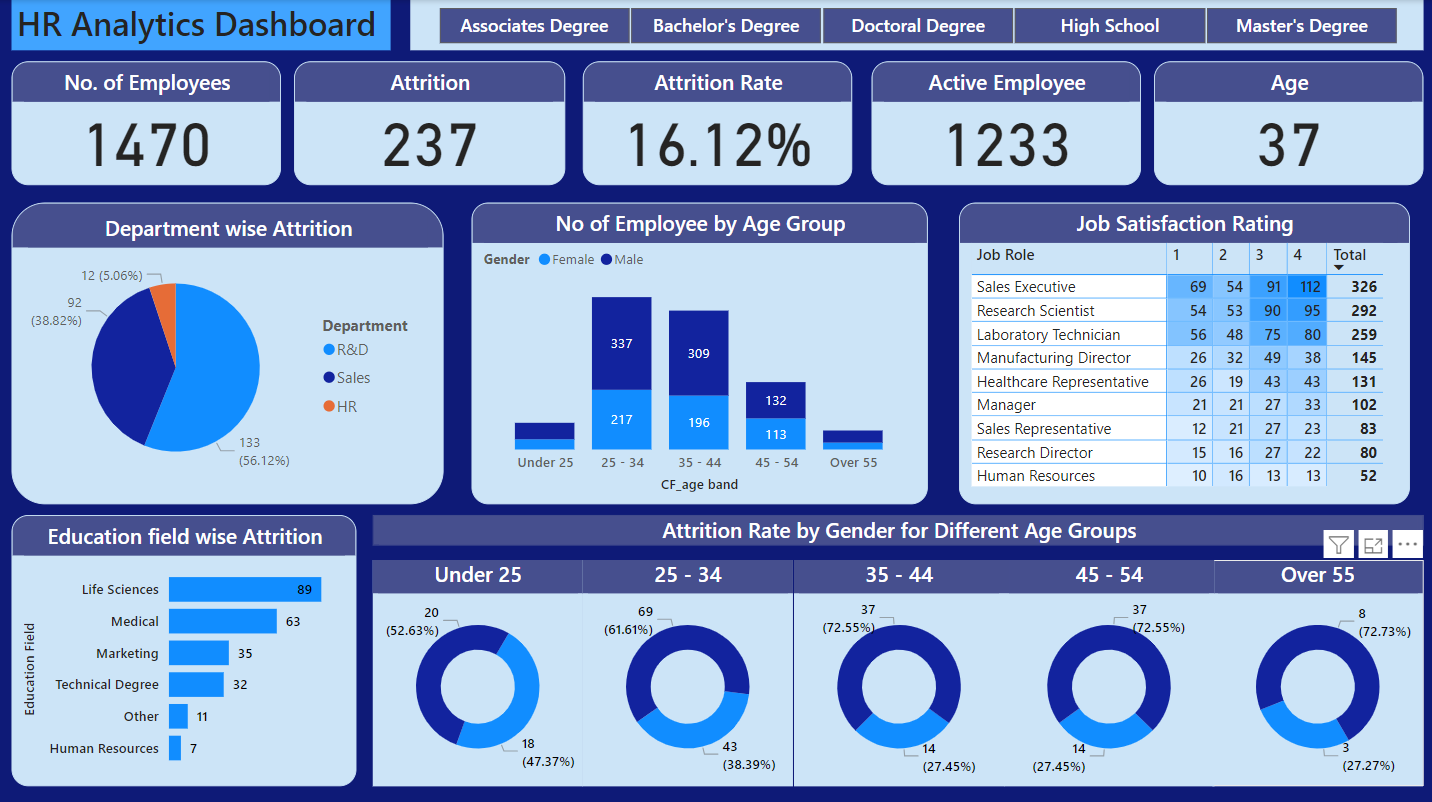

Layout of this report page (visuals, bound fields, positions):
{"tool":"powerbi","page":{"name":"Page 1","canvas":[1280,720],"ordinal":0},"visuals":[{"type":"card","title":"No. of Employees","fields":{"Values":["Sum(HR data.Employee Count)"]},"box":[11.2,55,240,110],"z":0},{"type":"card","title":"Attrition","fields":{"Values":["Sum(HR data.Attrition count)"]},"box":[262.5,55,241.2,110],"z":1000},{"type":"card","title":"Attrition Rate","fields":{"Values":["HR data.Attrition rate"]},"box":[520,55,240,110],"z":2000},{"type":"card","title":"Active Employee","fields":{"Values":["HR data.Active Employee"]},"box":[777.5,55,240,110],"z":3000},{"type":"card","title":"Age","fields":{"Values":["Avg(HR data.Age)"]},"box":[1028.8,55,240,110],"z":4000},{"type":"pieChart","title":"Department wise Attrition","fields":{"Category":["HR data.Department"],"Y":["Sum(HR data.Attrition count)"]},"box":[11.2,180,385,268.8],"z":5000},{"type":"columnChart","title":"No of Employee by Age Group","fields":{"Series":["HR data.Gender"],"Category":["HR data.CF_age band"],"Y":["Sum(HR data.Employee Count)"]},"box":[421.2,180,406.2,268.8],"z":6000},{"type":"pivotTable","title":"Job Satisfaction Rating","fields":{"Rows":["HR data.Job Role"],"Columns":["HR data.Job Satisfaction"],"Values":["Sum(HR data.Employee Count)"]},"box":[855,180,401.2,268.8],"z":7000},{"type":"barChart","title":"Education field wise Attrition","fields":{"Category":["HR data.Education Field"],"Y":["Sum(HR data.Attrition count)"]},"box":[11.2,458.8,307.5,241.2],"z":8000},{"type":"donutChart","title":"Under 25","fields":{"Y":["Sum(HR data.Attrition count)"],"Category":["HR data.Gender"],"Series":["HR data.CF_age band"]},"box":[332.5,498.8,187.5,201.2],"z":9000},{"type":"textbox","title":"Attrition Rate by Gender for Different Age Groups","box":[332.5,458.8,936.2,27.5],"z":10000},{"type":"donutChart","title":"25 - 34","fields":{"Y":["Sum(HR data.Attrition count)"],"Category":["HR data.Gender"],"Series":["HR data.CF_age band"]},"box":[520,498.8,187.5,201.2],"z":11000},{"type":"donutChart","title":"35 - 44","fields":{"Y":["Sum(HR data.Attrition count)"],"Category":["HR data.Gender"],"Series":["HR data.CF_age band"]},"box":[707.5,498.8,187.5,201.2],"z":12000},{"type":"donutChart","title":"Over 55","fields":{"Y":["Sum(HR data.Attrition count)"],"Category":["HR data.Gender"],"Series":["HR data.CF_age band"]},"box":[1081.2,498.8,187.5,201.2],"z":13000},{"type":"donutChart","title":"45 - 54","fields":{"Y":["Sum(HR data.Attrition count)"],"Category":["HR data.Gender"],"Series":["HR data.CF_age band"]},"box":[895,498.8,187.5,201.2],"z":14000},{"type":"textbox","title":"HR Analytics Dashboard","box":[11.2,0,337.5,45],"z":15000},{"type":"slicer","fields":{"Values":["HR data.Education"]},"box":[366.2,0,902.5,45],"z":16000}]}

Visuals, with their boxes in screenshot pixels (x1, y1, x2, y2), scaled from the page's 1280x720 canvas onto the 1432x802 screenshot:
"No. of Employees" card: bbox(13, 61, 281, 184)
"Attrition" card: bbox(294, 61, 564, 184)
"Attrition Rate" card: bbox(582, 61, 850, 184)
"Active Employee" card: bbox(870, 61, 1138, 184)
"Age" card: bbox(1151, 61, 1419, 184)
"Department wise Attrition" pieChart: bbox(13, 200, 443, 500)
"No of Employee by Age Group" columnChart: bbox(471, 200, 926, 500)
"Job Satisfaction Rating" pivotTable: bbox(957, 200, 1405, 500)
"Education field wise Attrition" barChart: bbox(13, 511, 357, 780)
"Under 25" donutChart: bbox(372, 556, 582, 780)
"Attrition Rate by Gender for Different Age Groups" textbox: bbox(372, 511, 1419, 542)
"25 - 34" donutChart: bbox(582, 556, 792, 780)
"35 - 44" donutChart: bbox(792, 556, 1001, 780)
"Over 55" donutChart: bbox(1210, 556, 1419, 780)
"45 - 54" donutChart: bbox(1001, 556, 1211, 780)
"HR Analytics Dashboard" textbox: bbox(13, 0, 390, 50)
slicer - HR data.Education: bbox(410, 0, 1419, 50)
